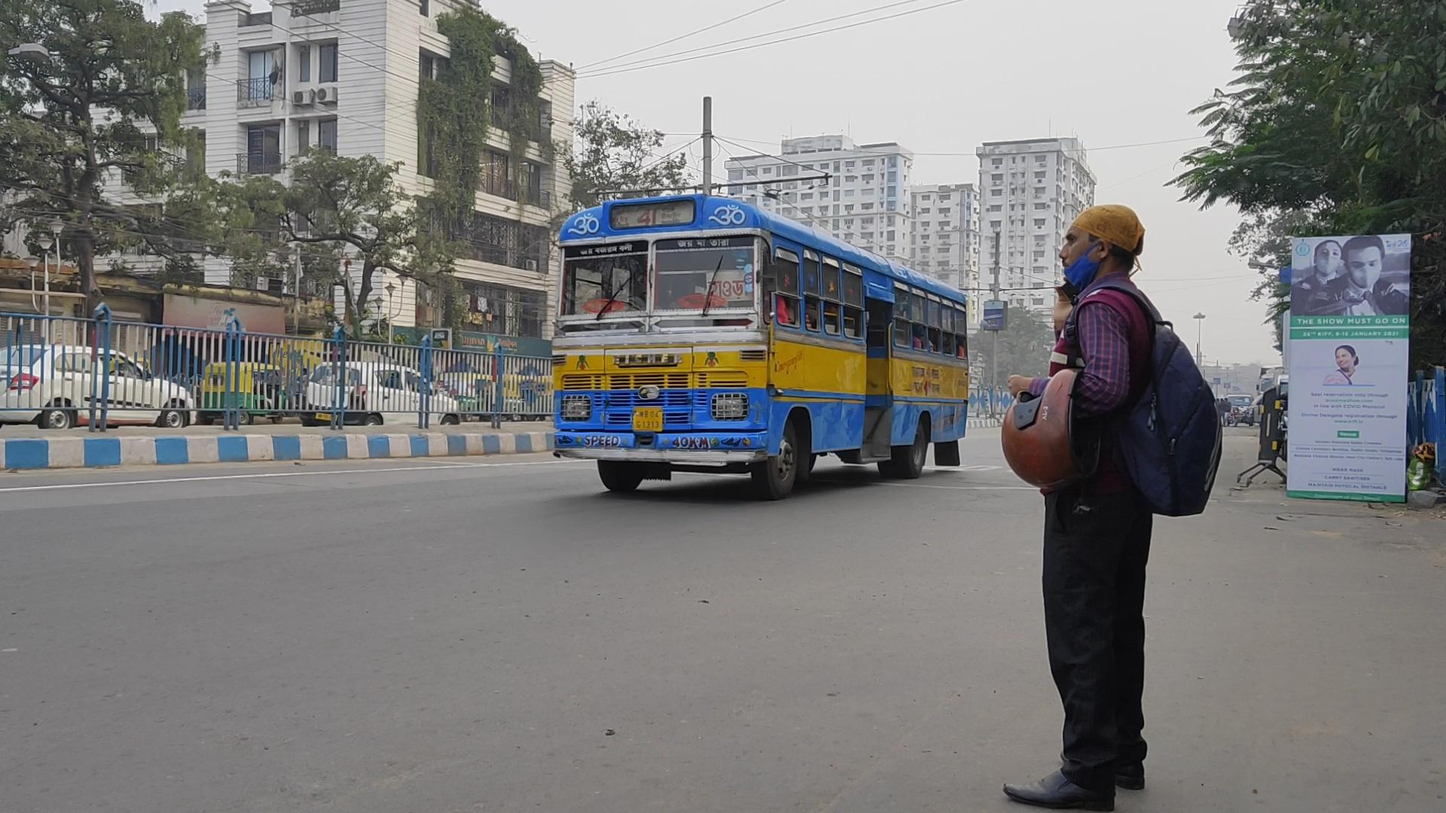Bus: (551, 193, 971, 500)
